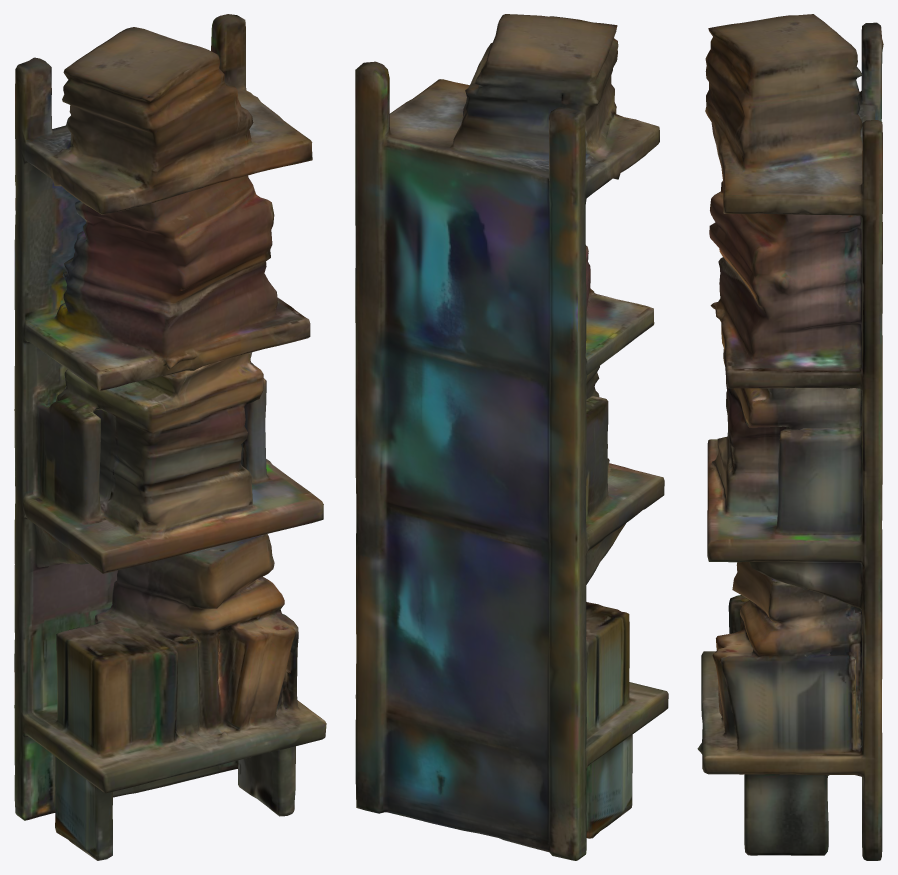
Rendered from A dusty bookshelf.gltf.
3 views of the same model, side by side, from view 1: azimuth 30°, elevation 25°; view 2: azimuth 150°, elevation 25°; view 3: azimuth 270°, elevation 25° (orthographic). The views are drawn at different scales.
Visible parts, largest first — view 1: Mesh1.0; view 2: Mesh1.0; view 3: Mesh1.0.
Boxes of the visible parts, box(x1,y1,x2,y2) form: Mesh1.0: box(14, 14, 326, 860); Mesh1.0: box(355, 14, 668, 860); Mesh1.0: box(697, 14, 883, 860).
Bounding box in the file's own units: 0.6104 × 2 × 0.4458.
Materials: 1 (1 with a texture image).
